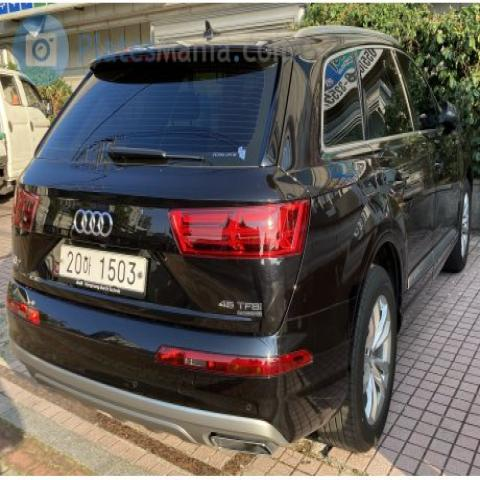LP: (48, 237, 156, 297)
